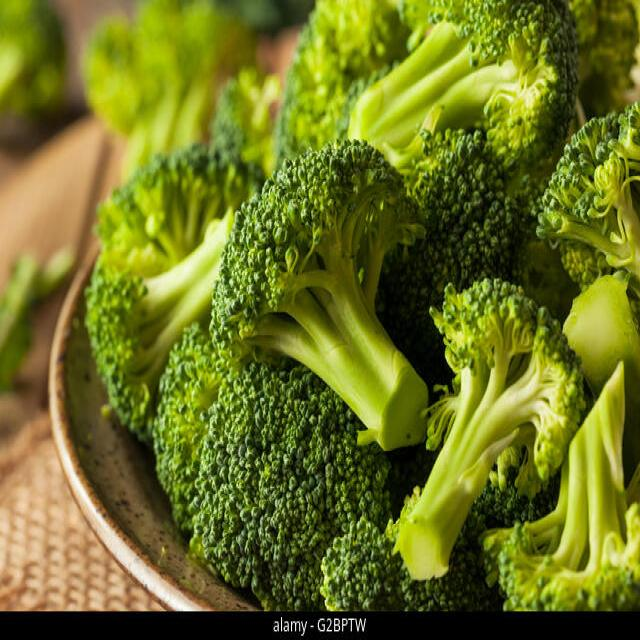broccoli: (208, 136, 453, 453), (394, 268, 586, 585), (347, 0, 582, 166), (531, 99, 640, 283)
